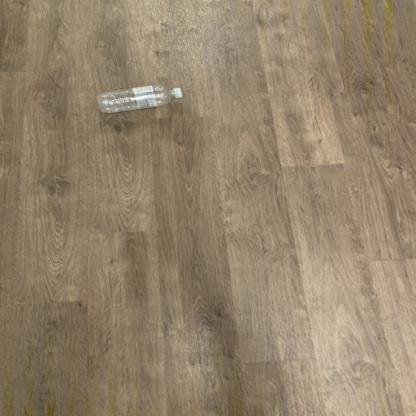trash: (96, 85, 180, 115)
